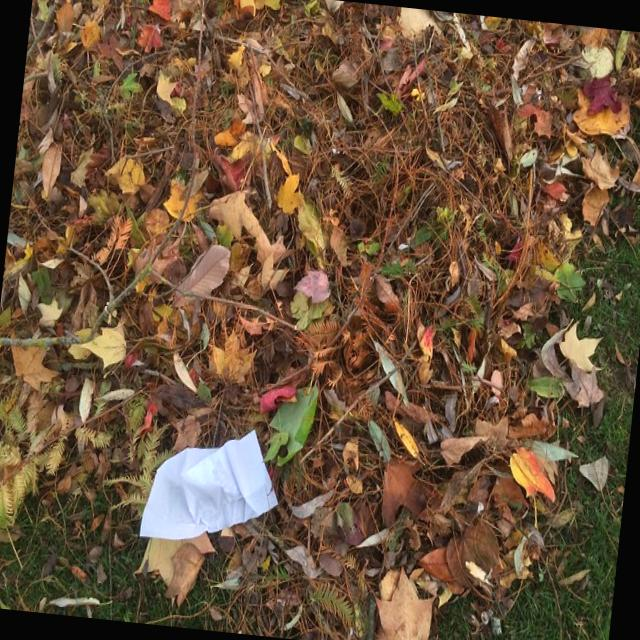Recycle: (138, 418, 286, 554)
